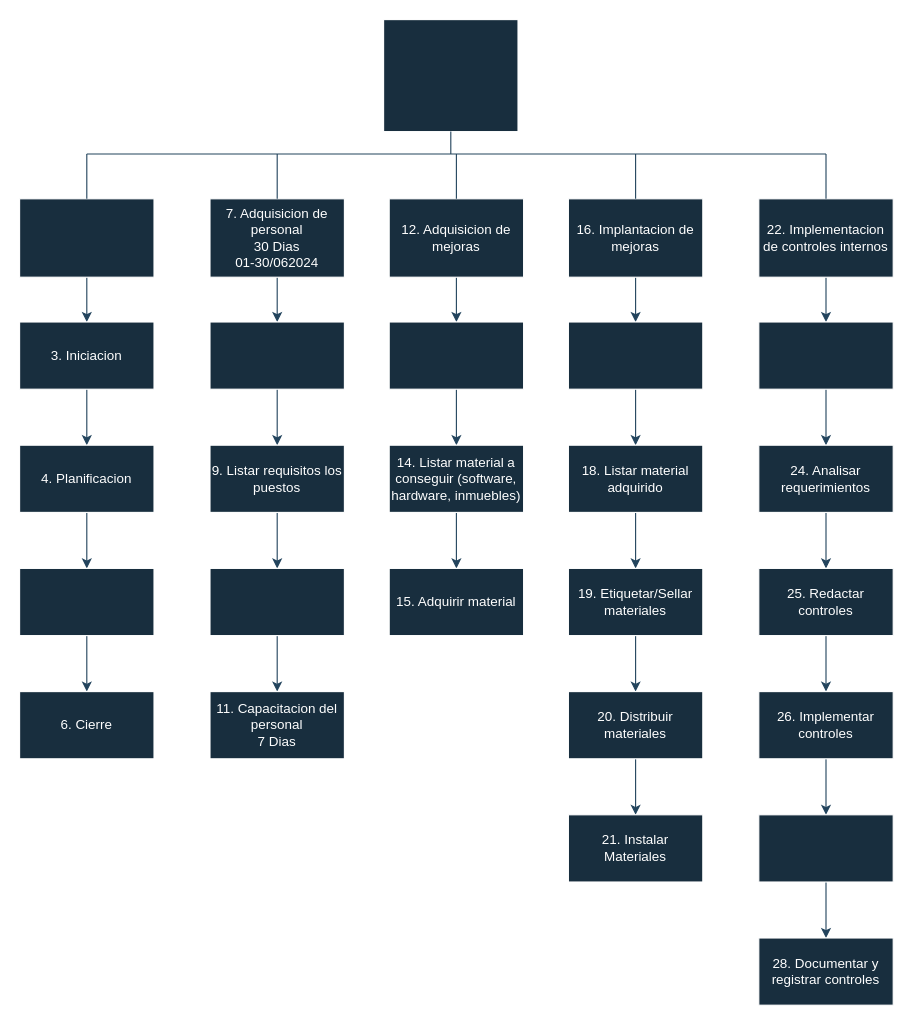
The diagram is 913 pixels wide and 1025 high, and some of its shapes have lost their labels. Here are the shapes that lost their labels. From the top down, the box of each, then its label:
(382, 18, 518, 132): 1. Mejora del area Informatica 6 meses 15 dias 01/06/2024 - 15/12/2024
(18, 198, 154, 277): 2. Administracion del proyecto
(209, 321, 344, 389): 8. Listar el personal necesario
(388, 321, 524, 389): 13. Auditar area de informatica
(567, 321, 703, 389): 17. Condicionar area informatica
(758, 321, 893, 389): 23. Identificar objetivos
(18, 567, 154, 636): 5. Control
(209, 567, 344, 636): 10. Adquision del personal
(758, 814, 893, 882): 27. Probar y validar el funcionamiento de controles
